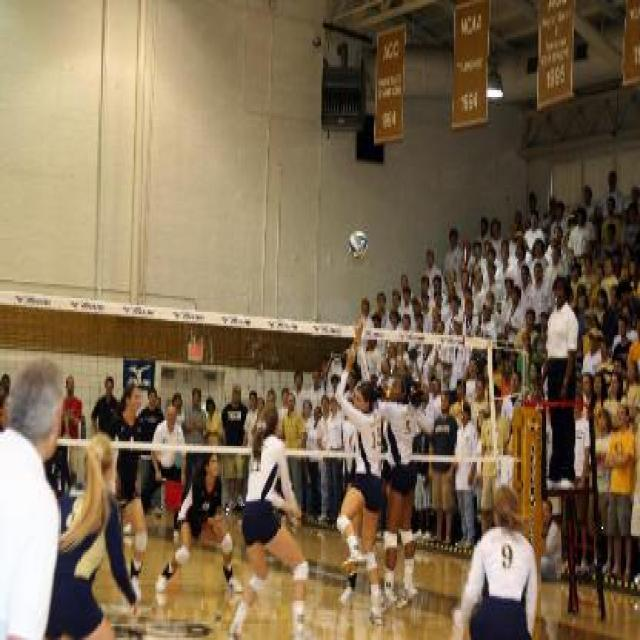volleyball: (345, 230, 367, 262)
